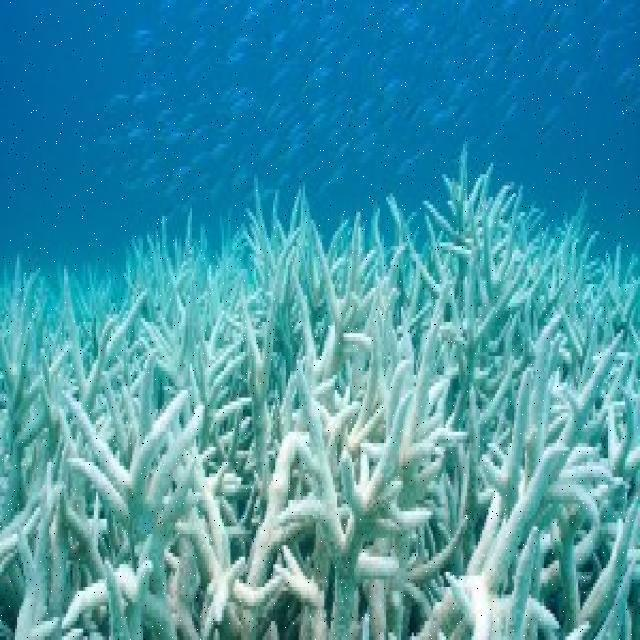Bleached: (5, 217, 640, 640)
